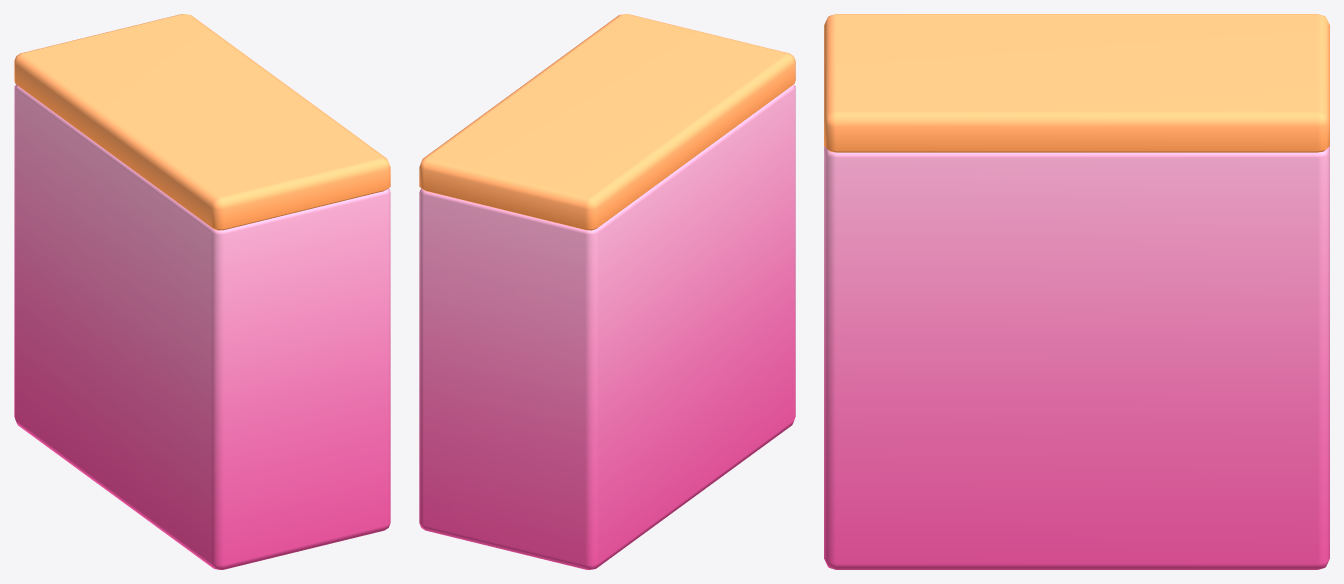
The model's file is Platform_06.glb.
3 views of the same model, side by side, from view 1: azimuth 30°, elevation 25°; view 2: azimuth 150°, elevation 25°; view 3: azimuth 270°, elevation 25° (orthographic). The views are drawn at different scales.
Parts seen in each view (by area): view 1: Platform_06; view 2: Platform_06; view 3: Platform_06.
Boxes of the visible parts, x1,y1,x2,y2 form: Platform_06: [14, 14, 390, 569]; Platform_06: [419, 14, 795, 569]; Platform_06: [824, 14, 1329, 569].
Bounding box in the file's own units: 6 × 12 × 12.
1 material, 1 textured.
